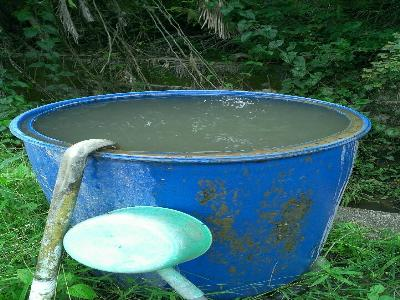bowl: (7, 88, 373, 292), (58, 205, 215, 277)
